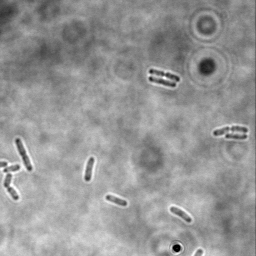Dividing: (14, 135, 35, 173), (147, 66, 182, 83), (212, 124, 249, 137)
Rod: (169, 204, 194, 224), (148, 75, 179, 90), (82, 156, 97, 183), (104, 193, 130, 208), (2, 163, 22, 175), (6, 185, 20, 202), (224, 132, 249, 141), (3, 173, 13, 188)
